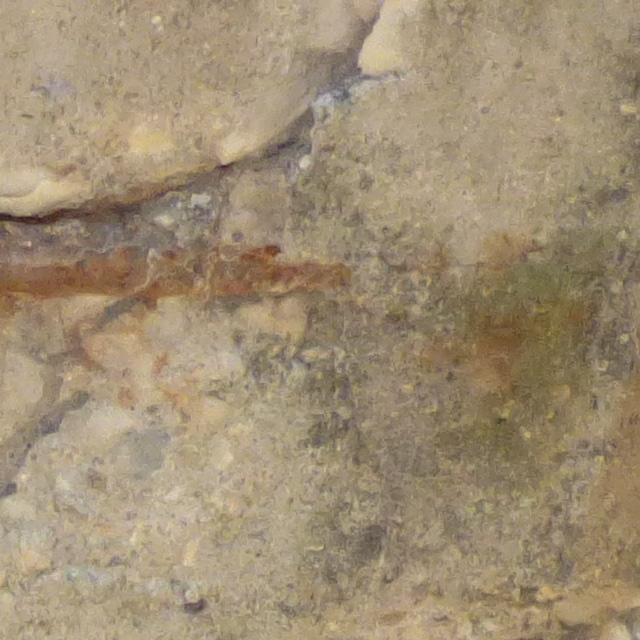Rust: (4, 240, 359, 307)
